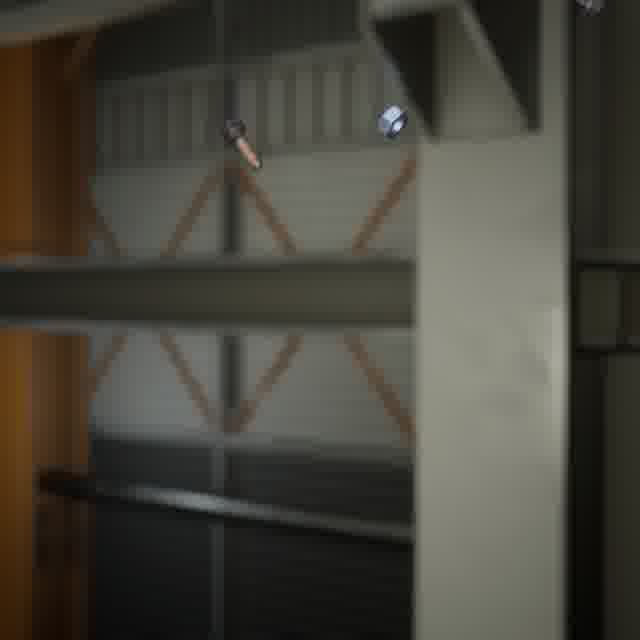bolt: (215, 112, 266, 173), (562, 0, 608, 25)
nut: (372, 101, 412, 143)
